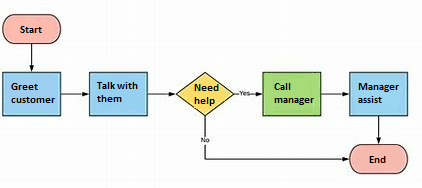arrow: (202, 113, 351, 162), (145, 90, 177, 98), (319, 90, 351, 98), (28, 41, 36, 72), (375, 114, 382, 145), (233, 91, 263, 98), (59, 91, 90, 97)
decision: (175, 71, 235, 116)
process: (87, 70, 150, 118), (260, 70, 323, 118), (1, 70, 63, 118), (348, 70, 409, 117)
terminator: (1, 13, 62, 46), (348, 143, 410, 175)
text: (273, 80, 315, 106), (9, 82, 56, 105), (96, 80, 139, 104), (357, 81, 400, 105), (19, 24, 44, 35), (368, 154, 387, 165), (200, 135, 212, 145), (238, 88, 250, 97)
